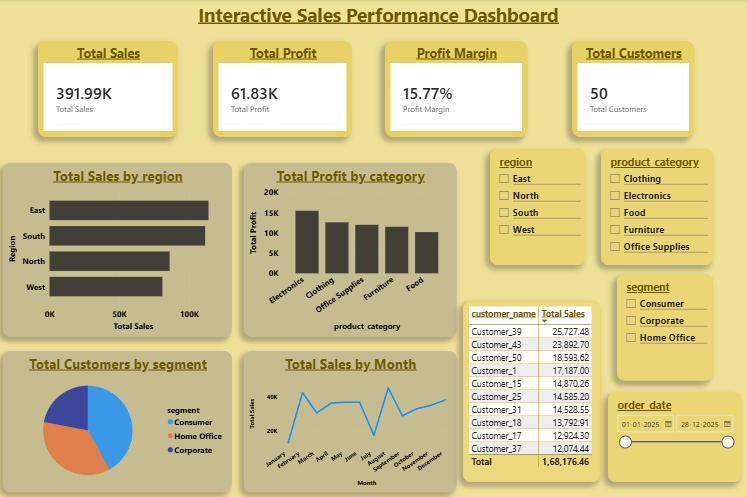

Layout of this report page (visuals, bound fields, positions):
{"tool":"powerbi","page":{"name":"Dashboard","canvas":[1500,1000],"ordinal":0},"visuals":[{"type":"cardVisual","title":"Total Sales","fields":{"Data":["Orders_Table.Total Sales"]},"box":[78.3,83.3,280,191.7],"z":0},{"type":"cardVisual","title":"Total Profit","fields":{"Data":["Orders_Table.Total Profit"]},"box":[428.3,83.3,278.3,191.7],"z":1000},{"type":"cardVisual","title":"Profit Margin","fields":{"Data":["Orders_Table.Profit Margin"]},"box":[771.7,83.3,285,191.7],"z":2000},{"type":"cardVisual","title":"Total Customers","fields":{"Data":["Orders_Table.Total Customers"]},"box":[1145,83.3,245,191.7],"z":3000},{"type":"barChart","fields":{"Category":["Customers_Table.region"],"Y":["Orders_Table.Total Sales"]},"box":[8.3,328.3,458.3,346.7],"z":4000},{"type":"clusteredColumnChart","title":"Total Profit by category","fields":{"Y":["Orders_Table.Total Profit"],"Category":["Orders_Table.product_category"]},"box":[490,328.3,425,346.7],"z":5000},{"type":"lineChart","fields":{"Y":["Orders_Table.Total Sales"],"Category":["Orders_Table.order_date.Variation.Date Hierarchy.Month"]},"box":[490,703.3,425,281.7],"z":6000},{"type":"tableEx","fields":{"Values":["Customers_Table.customer_name","Orders_Table.Total Sales"]},"box":[928.3,603.3,275,361.7],"z":7000},{"type":"pieChart","fields":{"Category":["Customers_Table.segment"],"Y":["Orders_Table.Total Customers"]},"box":[8.3,703.3,458.3,281.7],"z":8000},{"type":"slicer","fields":{"Values":["Customers_Table.region"]},"box":[981.7,300,191.7,231.7],"z":9000},{"type":"slicer","fields":{"Values":["Orders_Table.product_category"]},"box":[1203.3,300,225,231.7],"z":10000},{"type":"slicer","fields":{"Values":["Orders_Table.order_date"]},"box":[1218.3,785,266.7,180],"z":11000},{"type":"slicer","fields":{"Values":["Customers_Table.segment"]},"box":[1236.7,550,191.7,213.3],"z":12000},{"type":"textbox","box":[238.3,0,1041.7,70],"z":13000}]}

Visuals, with their boxes in screenshot pixels (x1, y1, x2, y2), scaled from the page's 1500x1000 canvas onto the 747x497 screenshot:
"Total Sales" cardVisual: box(39, 41, 178, 137)
"Total Profit" cardVisual: box(213, 41, 352, 137)
"Profit Margin" cardVisual: box(384, 41, 526, 137)
"Total Customers" cardVisual: box(570, 41, 692, 137)
barChart - Customers_Table.region x Orders_Table.Total Sales: box(4, 163, 232, 335)
"Total Profit by category" clusteredColumnChart: box(244, 163, 456, 335)
lineChart - Orders_Table.Total Sales x Orders_Table.order_date.Variation.Date Hierarchy.Month: box(244, 350, 456, 490)
tableEx - Customers_Table.customer_name x Orders_Table.Total Sales: box(462, 300, 599, 480)
pieChart - Customers_Table.segment x Orders_Table.Total Customers: box(4, 350, 232, 490)
slicer - Customers_Table.region: box(489, 149, 584, 264)
slicer - Orders_Table.product_category: box(599, 149, 711, 264)
slicer - Orders_Table.order_date: box(607, 390, 740, 480)
slicer - Customers_Table.segment: box(616, 273, 711, 379)
textbox: box(119, 0, 637, 35)
